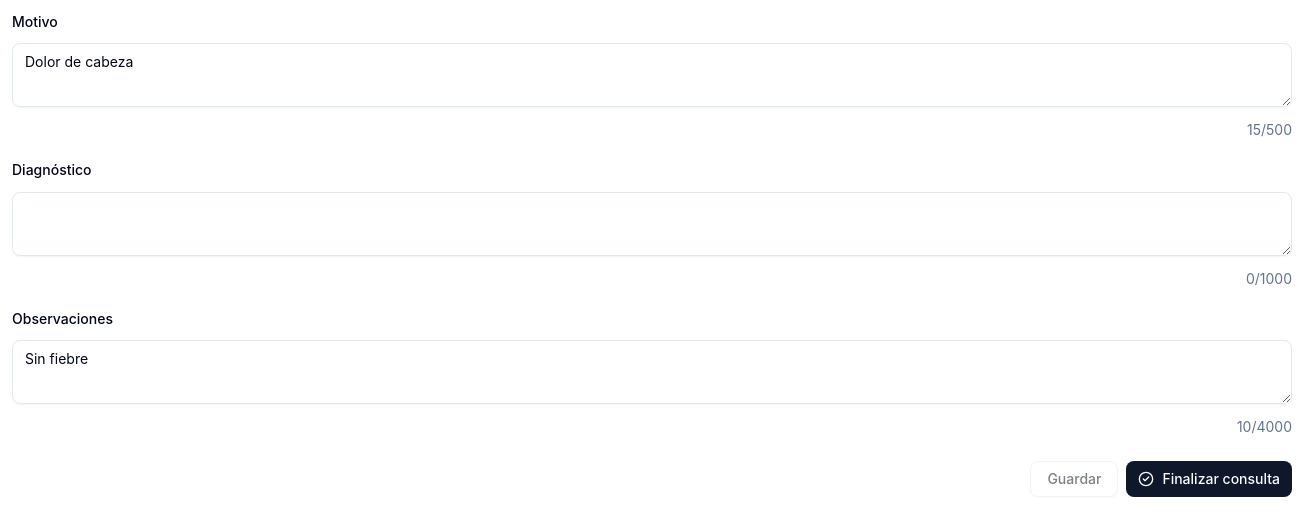
Test: ConsultationForm › saves the three texts with the empty ones as null
Clear the text box labelled "Observaciones" at (652, 372), box [12,340,1292,404]
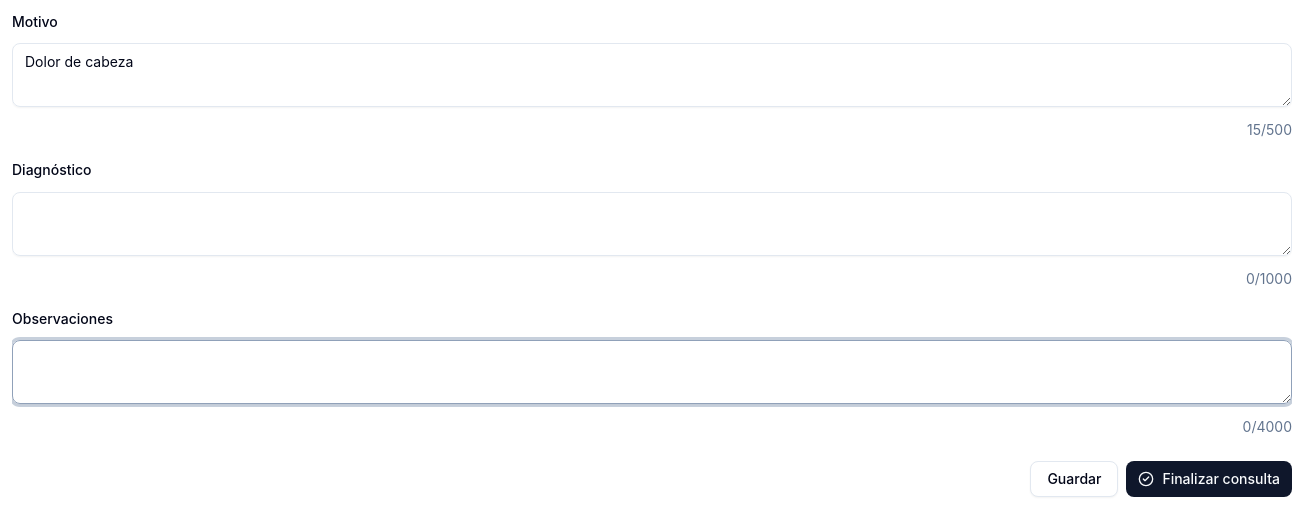
Click the button "Guardar".
click(1074, 479)  # box [1030,461,1118,497]
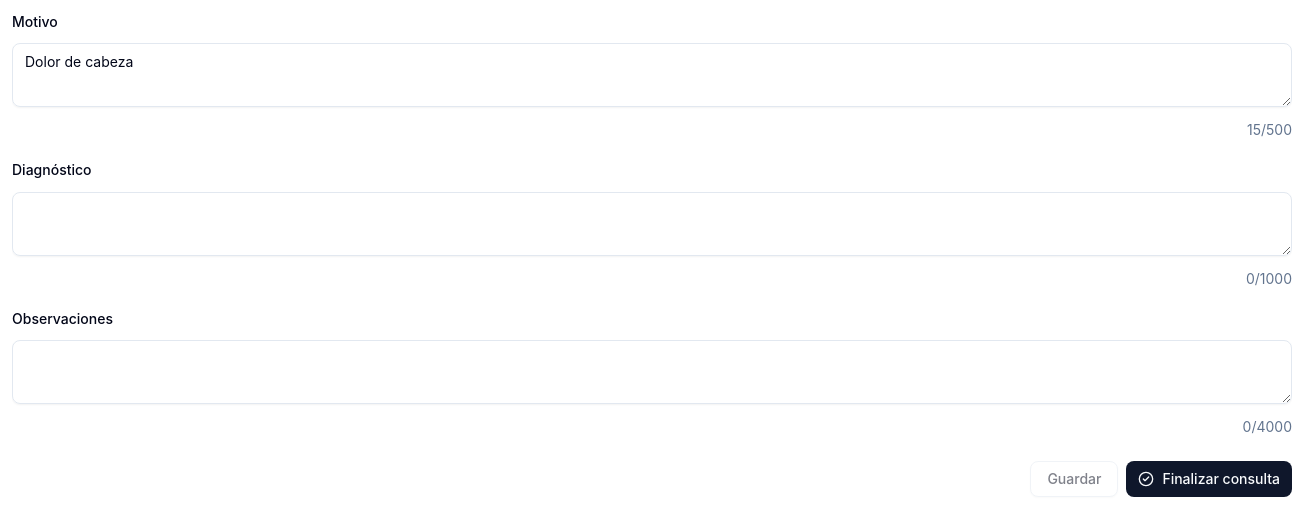
Check: the button "Guardar" is disabled, box [1030,461,1118,497]
